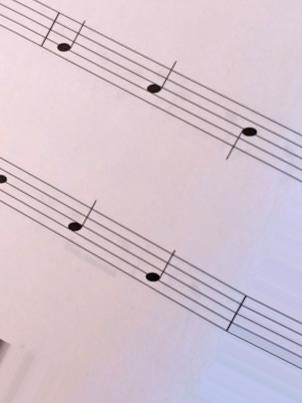A: (65, 188, 99, 268), (145, 51, 179, 126)
B: (223, 88, 260, 165)
G: (142, 231, 176, 309), (53, 4, 88, 77)
